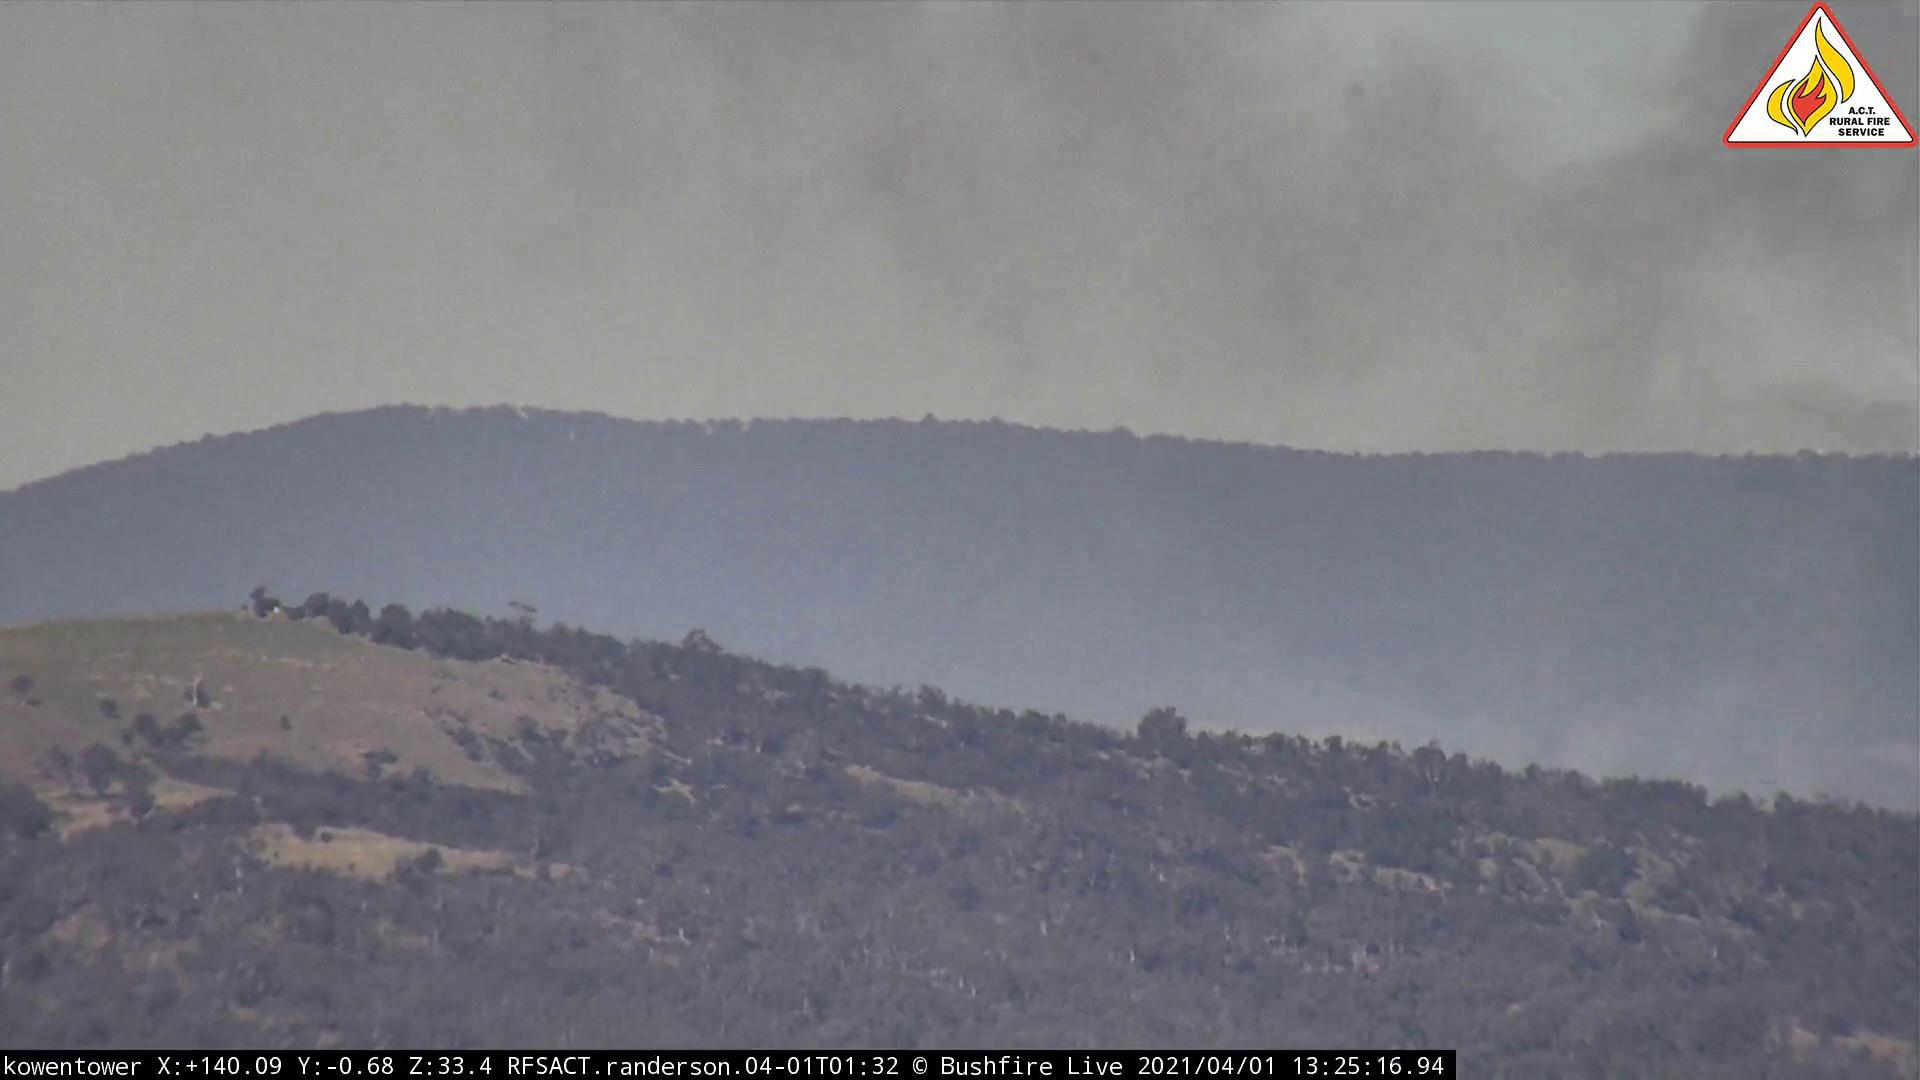instance_salient_object: (653, 3, 1920, 818)
